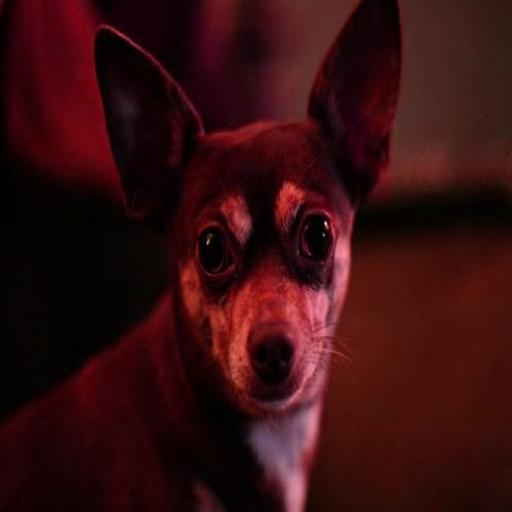dog_face: (97, 8, 394, 405)
